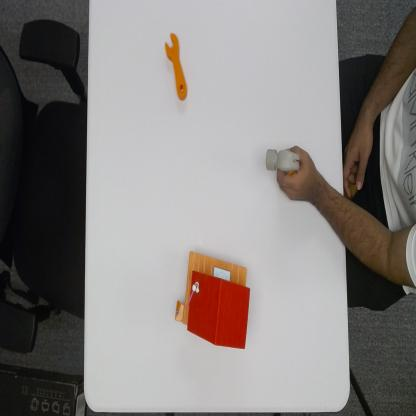Arm: (323, 178, 416, 284)
Hammer: (264, 147, 301, 176)
Hand: (276, 142, 323, 206)
House: (174, 248, 252, 356)
Screwdriver: (164, 30, 189, 103)
